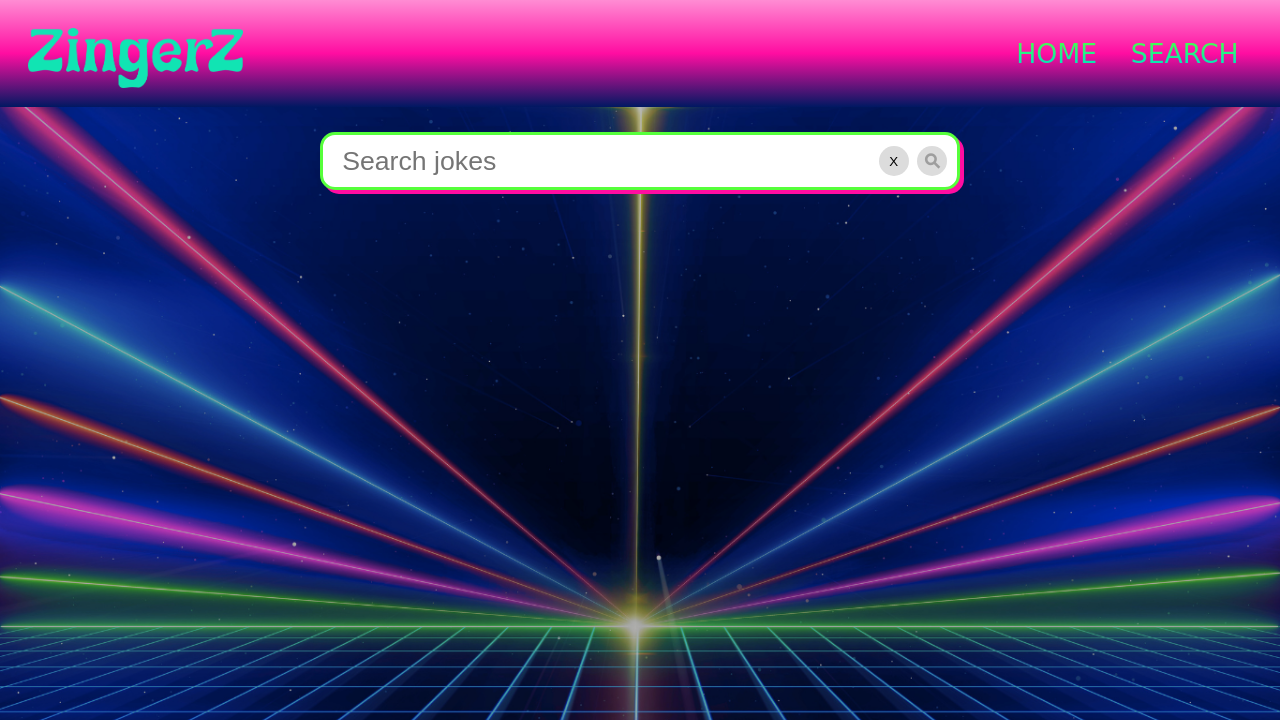
it: search view › should display all jokes if there is more than one page in the API
Type "example" into the field with placeholder "Search jokes". click: (640, 161)
box: [320,132,960,190]
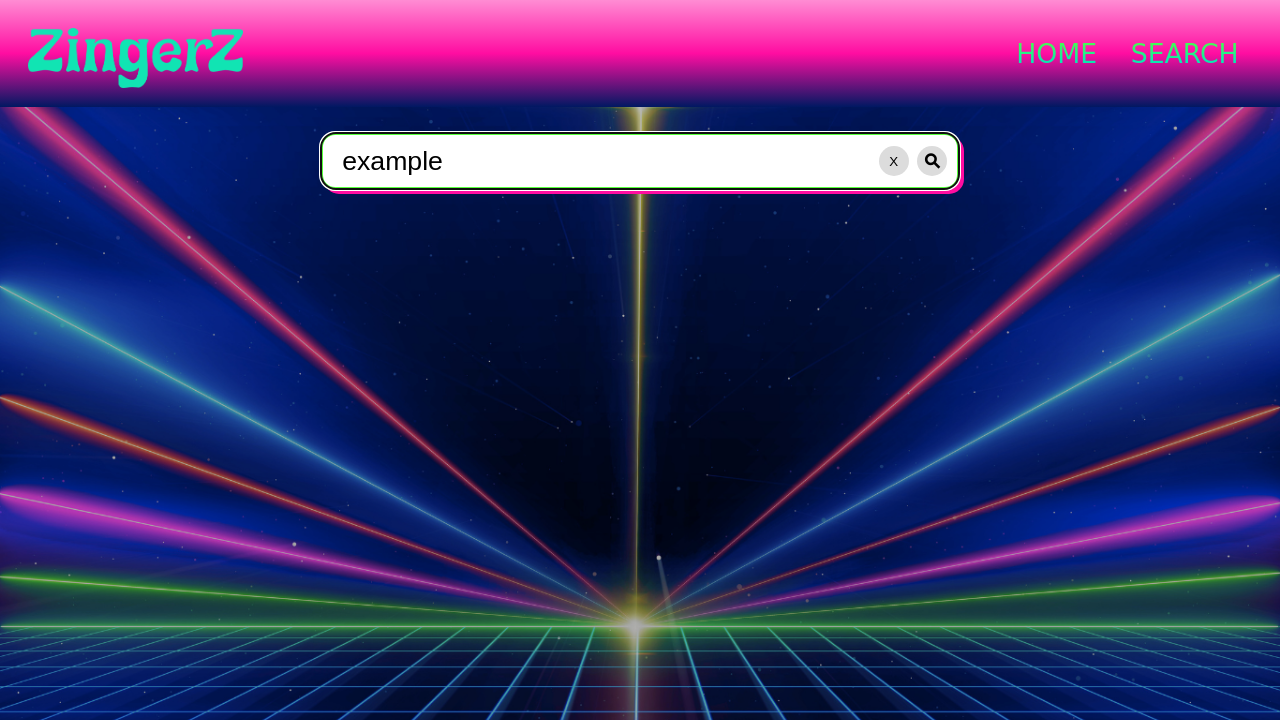
Click the button with class "search-btn". click: (932, 161)
box: [911,140,953,182]
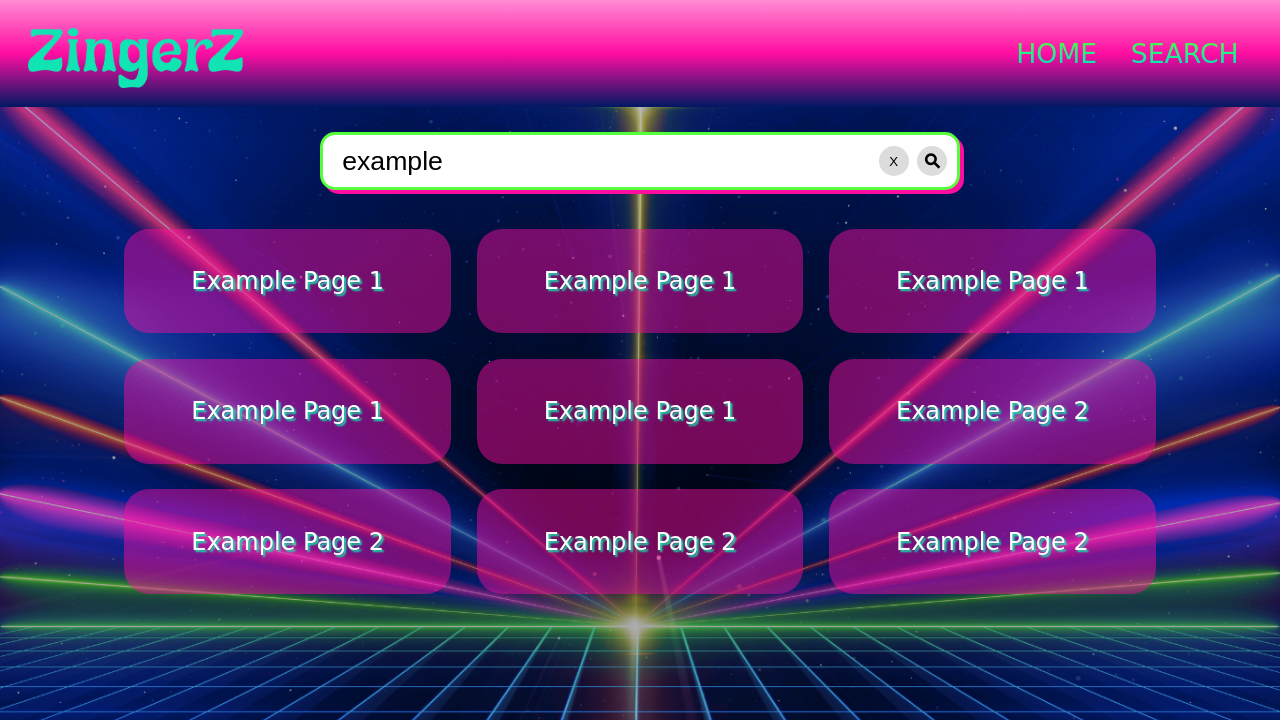
Expected: the 4th text "Example Page 2" is shown, [829,489,1156,594]
